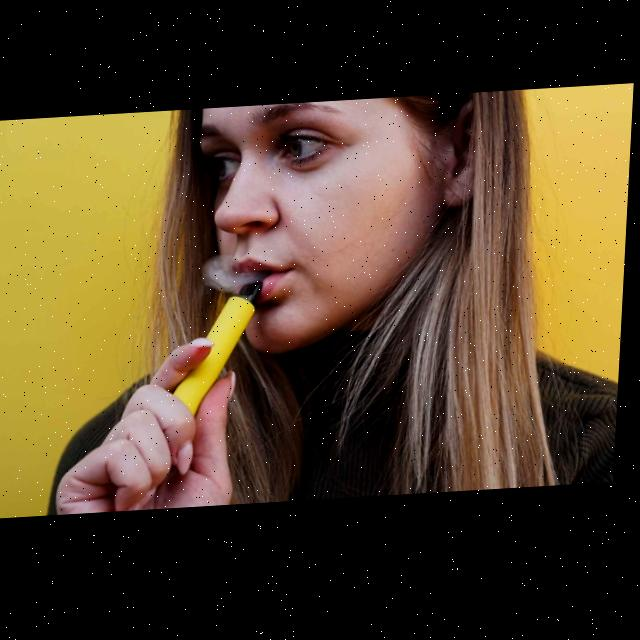vape: (177, 285, 266, 419)
